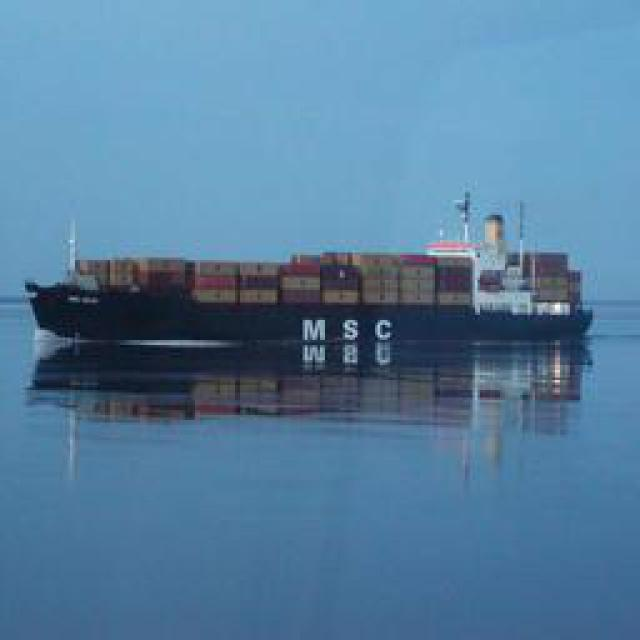Ship: (26, 215, 599, 350)
